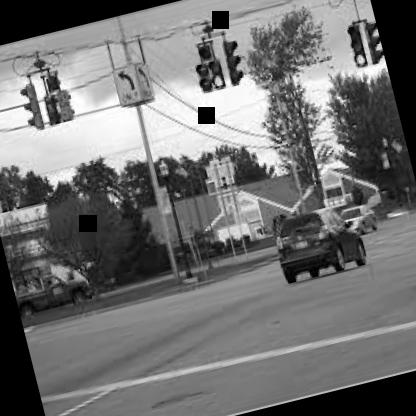car: (250, 170, 414, 320), (6, 230, 122, 338)
